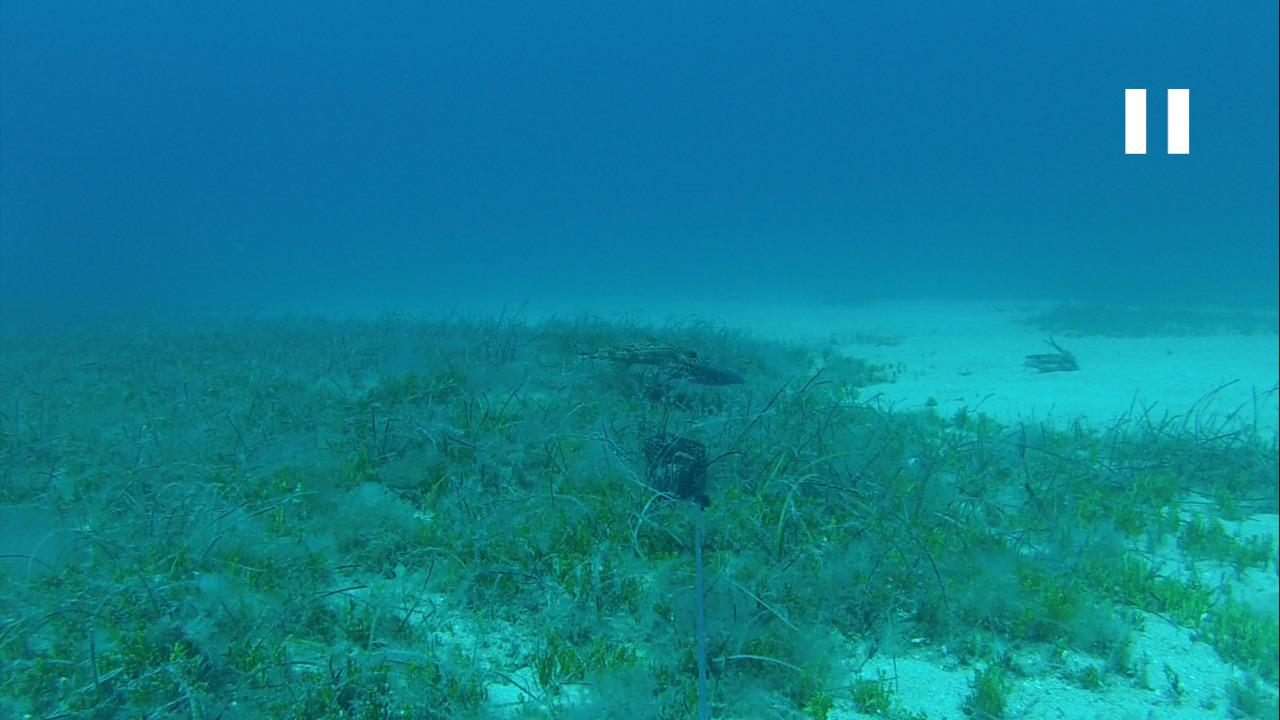dactylopterus: (591, 341, 752, 399)
